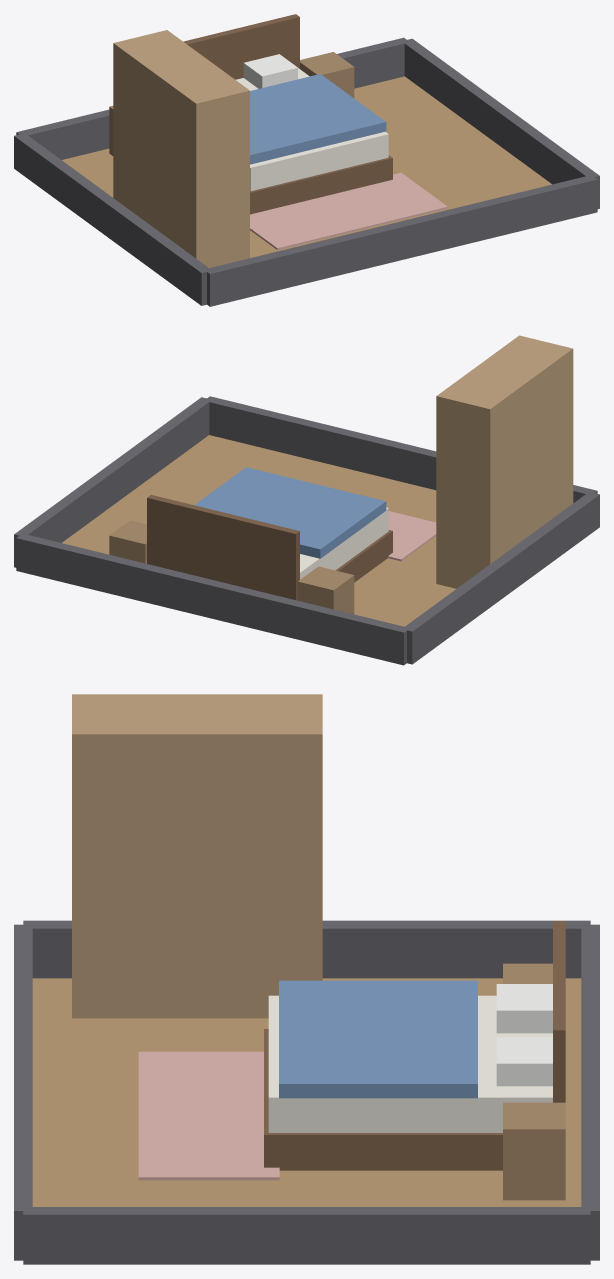
The picture shows the model from 3 angles, top to bottom: view 1: azimuth 30°, elevation 25°; view 2: azimuth 150°, elevation 25°; view 3: azimuth 270°, elevation 25°; orthographic projection. The views are drawn at different scales.
Visible parts, largest first — view 1: Room; view 2: Room; view 3: Room.
Part boxes in pixels (left/top/right/bottom): Room: left=14, top=14, right=599, bottom=306; Room: left=14, top=335, right=599, bottom=665; Room: left=14, top=694, right=599, bottom=1264.
Size of the model in its own units: 4.44 by 2 by 3.74.
